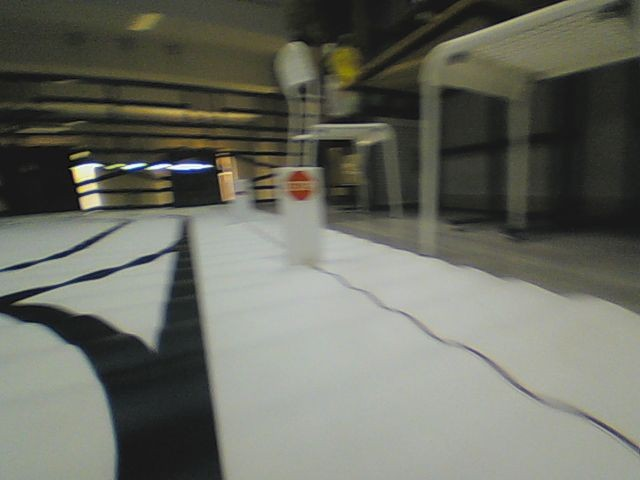Stop: (285, 170, 316, 201)
